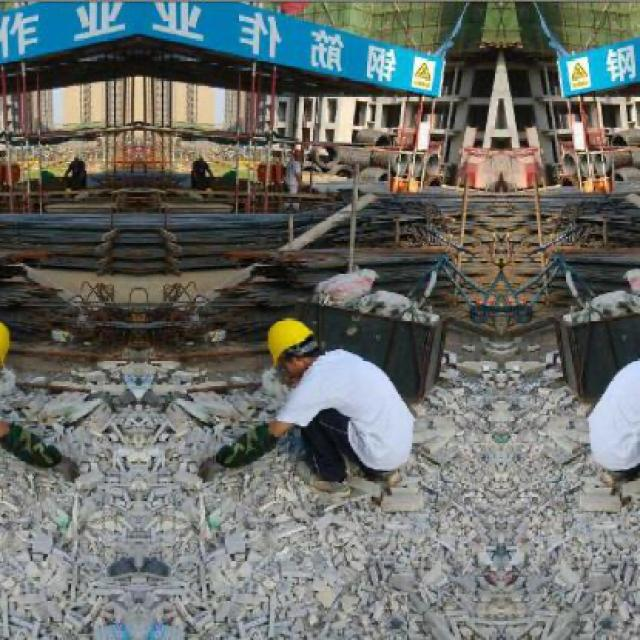helmet: (262, 310, 324, 382), (2, 311, 15, 383)
